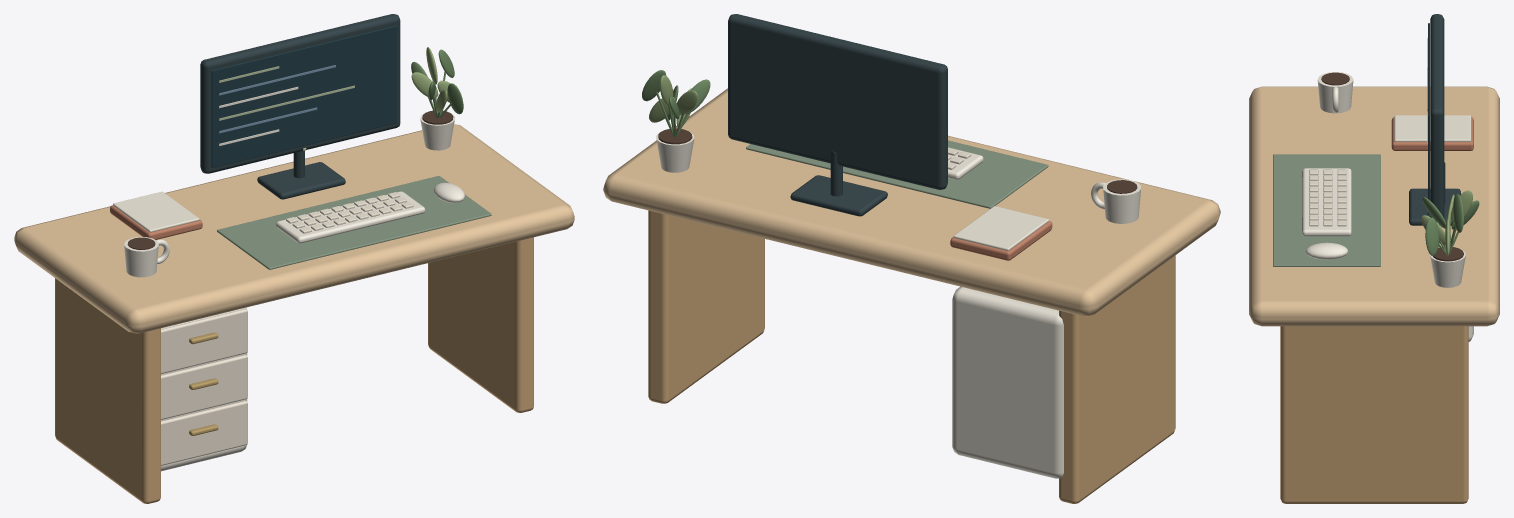
The model's file is desk.glb.
The picture shows the model from 3 angles, left to right: view 1: azimuth 30°, elevation 25°; view 2: azimuth 150°, elevation 25°; view 3: azimuth 270°, elevation 25°; orthographic projection. The views are drawn at different scales.
Visible parts, largest first — view 1: Desk_oakLight, Desk_oak, Desk_screen, Desk_wall, Desk_sage, Desk_charcoal, Desk_cream, Desk_paper, Desk_leaf, Desk_leafLight, Desk_terra, Desk_blue (+3 smaller); view 2: Desk_oakLight, Desk_oak, Desk_charcoal, Desk_cream, Desk_sage, Desk_paper, Desk_leaf, Desk_terra, Desk_leafLight, Desk_hair; view 3: Desk_oakLight, Desk_oak, Desk_sage, Desk_cream, Desk_charcoal, Desk_wall, Desk_paper, Desk_leaf, Desk_terra, Desk_leafLight, Desk_hair, Desk_screen.
Boxes of the visible parts, x1=… form: Desk_oakLight: x1=14, y1=124, x2=574, y2=333; Desk_oak: x1=55, y1=237, x2=533, y2=503; Desk_screen: x1=211, y1=25, x2=397, y2=167; Desk_wall: x1=161, y1=192, x2=413, y2=465; Desk_sage: x1=217, y1=176, x2=491, y2=269; Desk_charcoal: x1=200, y1=14, x2=400, y2=199; Desk_cream: x1=124, y1=86, x2=465, y2=471; Desk_paper: x1=113, y1=191, x2=199, y2=232; Desk_leaf: x1=411, y1=49, x2=463, y2=117; Desk_leafLight: x1=411, y1=47, x2=450, y2=112; Desk_terra: x1=110, y1=205, x2=202, y2=239; Desk_blue: x1=219, y1=65, x2=335, y2=133; Desk_oakLight: x1=603, y1=88, x2=1220, y2=316; Desk_oak: x1=648, y1=210, x2=1175, y2=503; Desk_charcoal: x1=728, y1=14, x2=947, y2=216; Desk_cream: x1=656, y1=132, x2=1141, y2=478; Desk_sage: x1=746, y1=140, x2=1048, y2=208; Desk_paper: x1=953, y1=206, x2=1048, y2=250; Desk_leaf: x1=642, y1=70, x2=710, y2=136; Desk_terra: x1=950, y1=221, x2=1052, y2=260; Desk_leafLight: x1=649, y1=75, x2=697, y2=126; Desk_hair: x1=658, y1=128, x2=1137, y2=193; Desk_oakLight: x1=1249, y1=86, x2=1499, y2=326; Desk_oak: x1=1280, y1=326, x2=1468, y2=503; Desk_sage: x1=1273, y1=154, x2=1380, y2=266; Desk_cream: x1=1302, y1=72, x2=1473, y2=341; Desk_charcoal: x1=1409, y1=14, x2=1460, y2=225; Desk_wall: x1=1309, y1=169, x2=1346, y2=226; Desk_paper: x1=1394, y1=115, x2=1471, y2=141; Desk_leaf: x1=1422, y1=194, x2=1479, y2=255; Desk_terra: x1=1391, y1=117, x2=1473, y2=150; Desk_leafLight: x1=1421, y1=190, x2=1472, y2=256; Desk_hair: x1=1321, y1=72, x2=1463, y2=261; Desk_screen: x1=1428, y1=23, x2=1429, y2=214.
Bounding box in the file's own units: 2.45 × 1.86 × 1.16.
